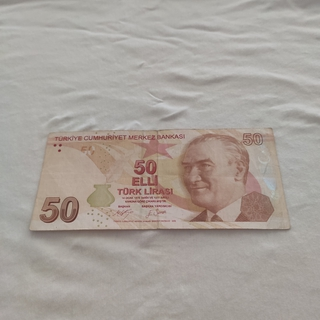50TLFront: (30, 127, 291, 230)
